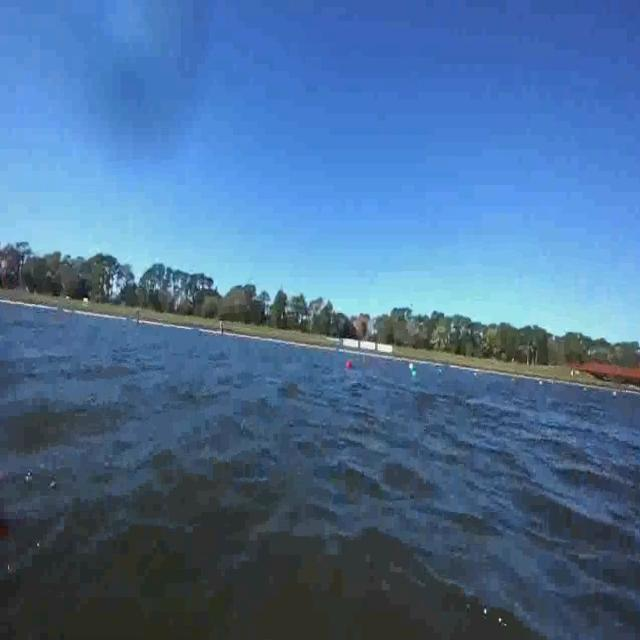red-buoy: (347, 359, 353, 369)
